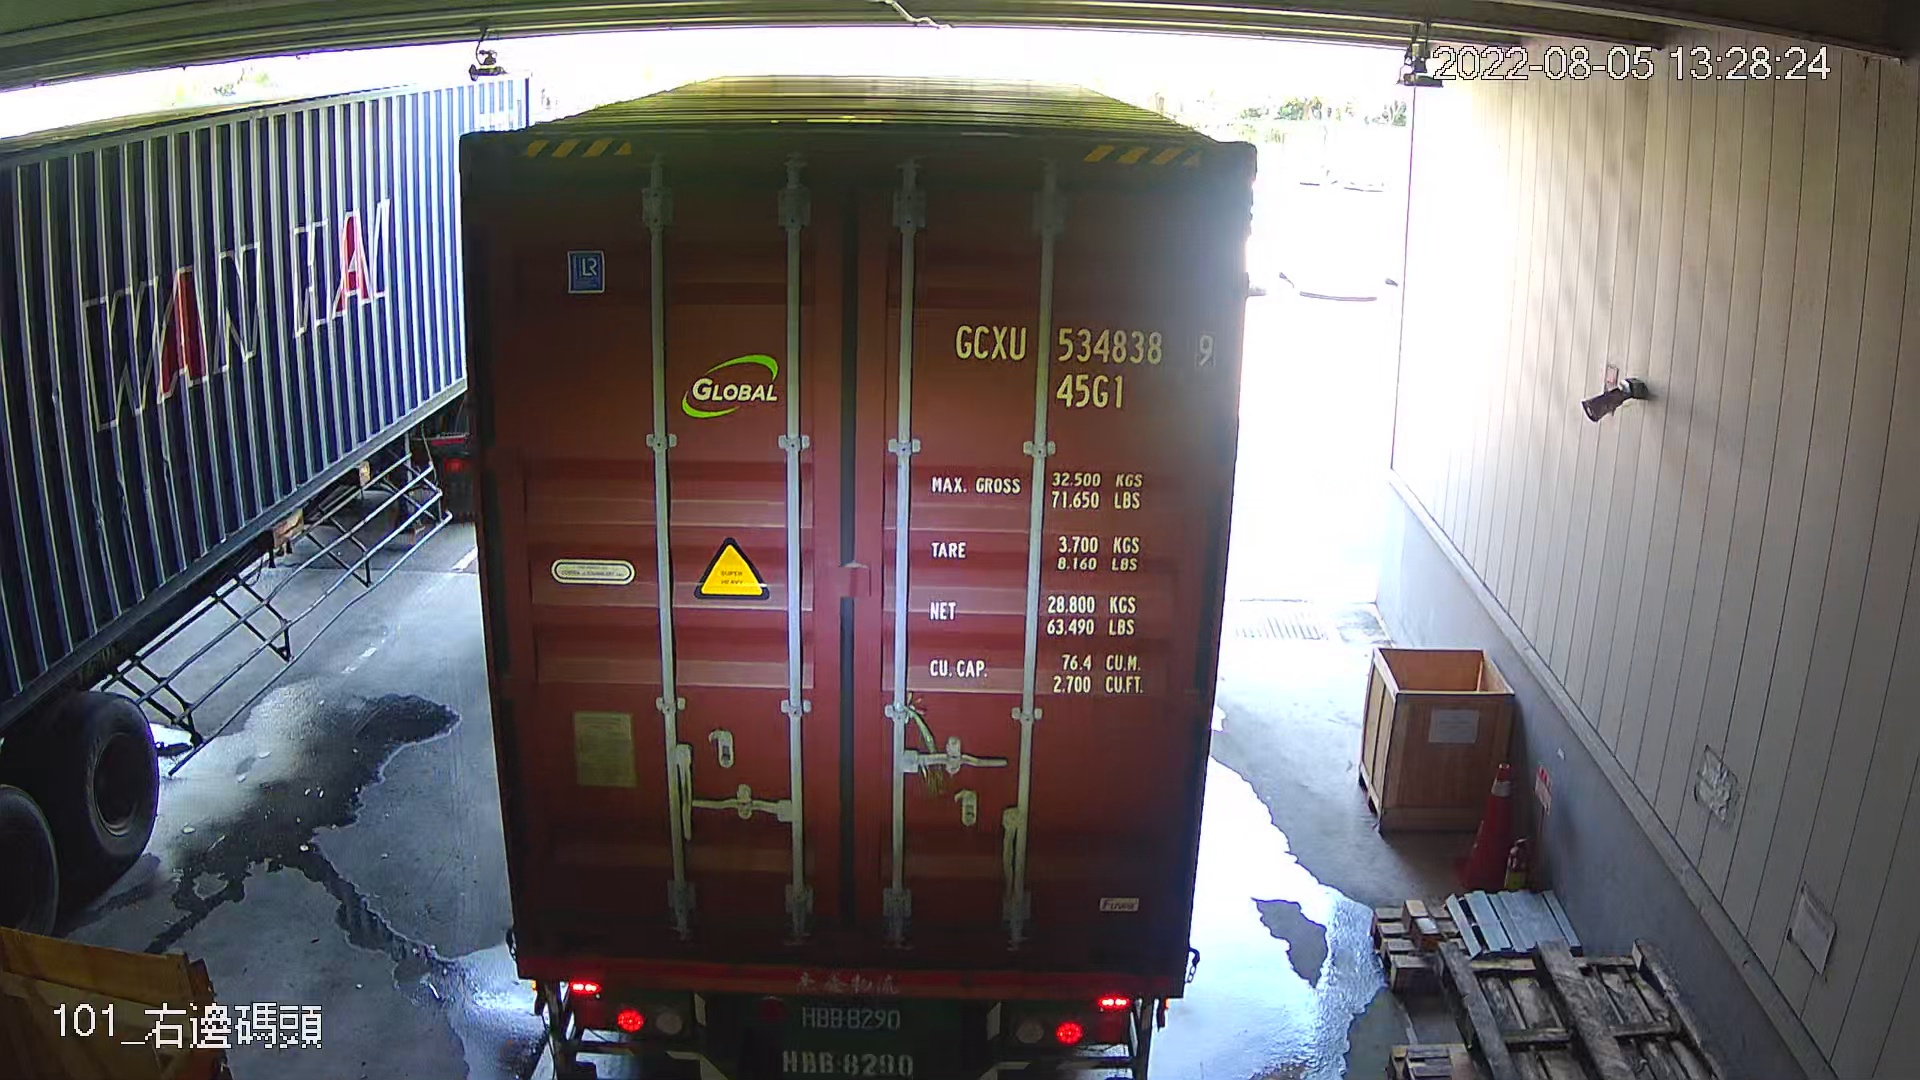container: (942, 305, 1222, 417)
